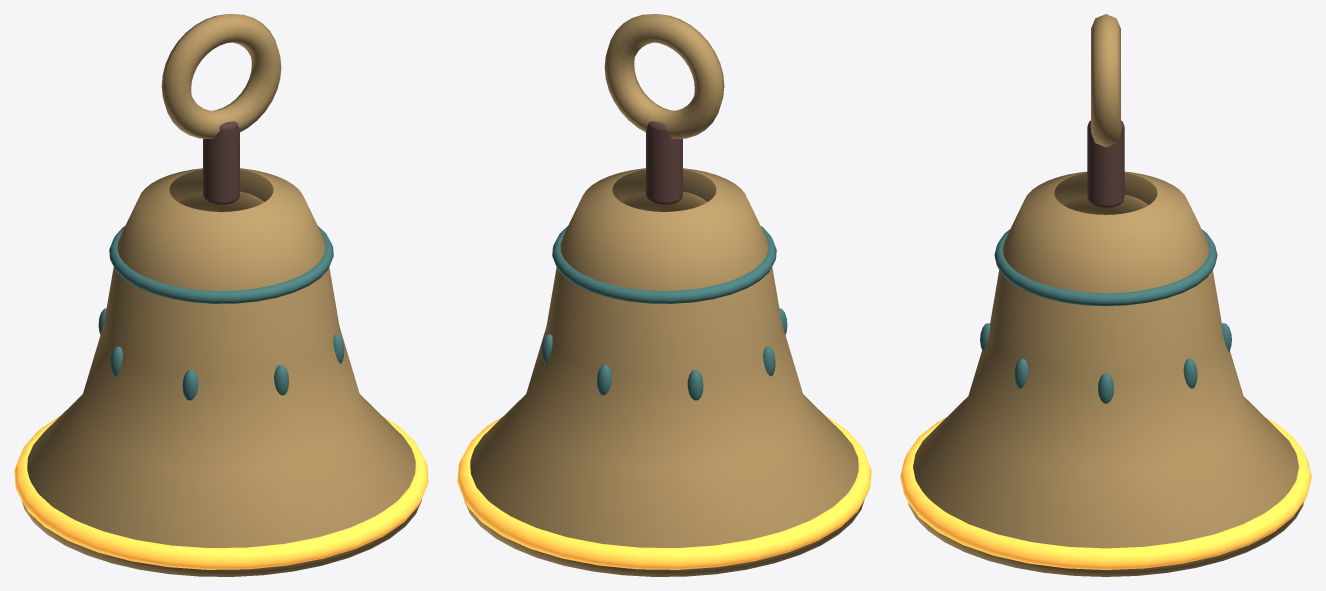
The model's file is relic_bell.glb.
3 renders of one model, left to right at view 1: azimuth 30°, elevation 25°; view 2: azimuth 150°, elevation 25°; view 3: azimuth 270°, elevation 25°, orthographic.
Visible parts, largest first — view 1: relic_bell; view 2: relic_bell; view 3: relic_bell.
Boxes of the visible parts, x1,y1,x2,y2 form: relic_bell: (14,14,428,576); relic_bell: (457,14,871,576); relic_bell: (900,14,1311,576).
Bounding box in the file's own units: 0.598 × 0.799 × 0.598.
